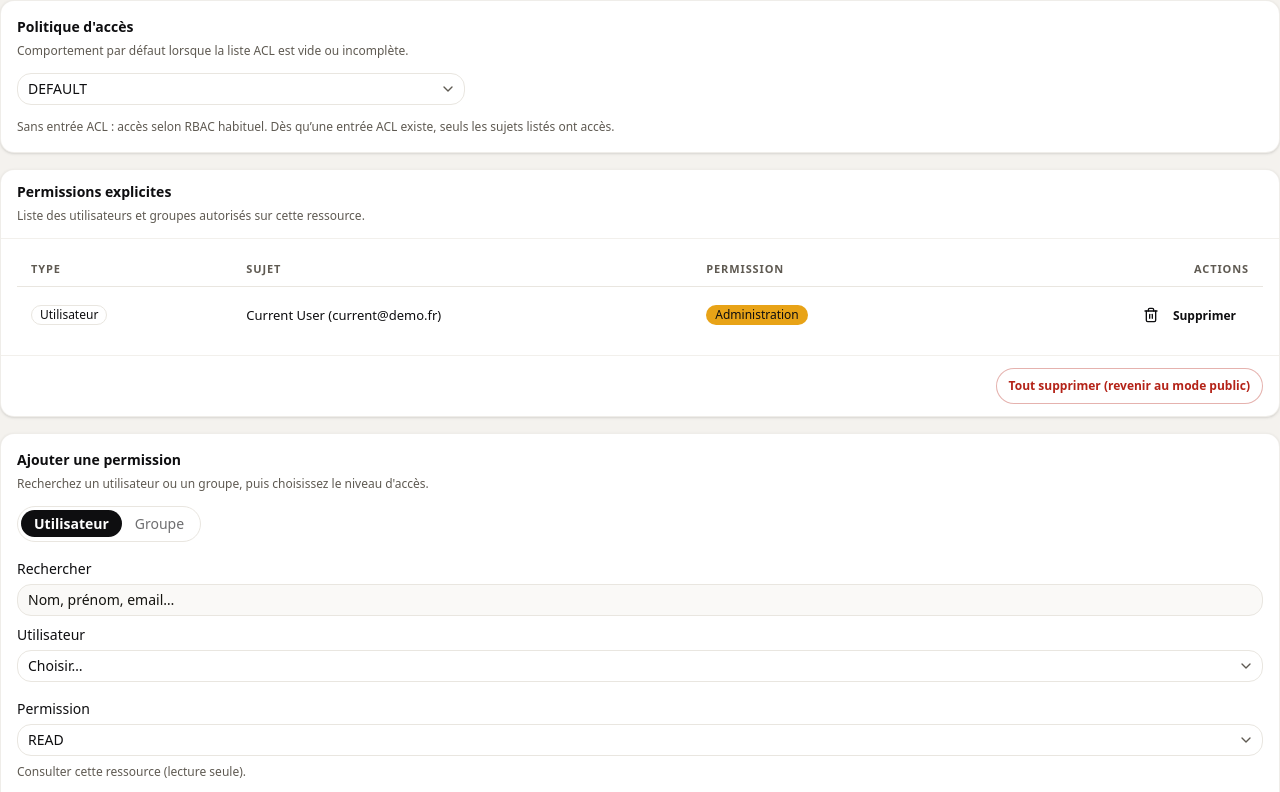
Test: ResourceAclEditor — self-lockout (test imposé n°4) › cas A : USER ADMIN unique → DELETE bloqué sans confirmation forte
Click the button with aria-label "Supprimer Current User (current@demo.fr)": (1189, 315) [1130, 297, 1249, 333]
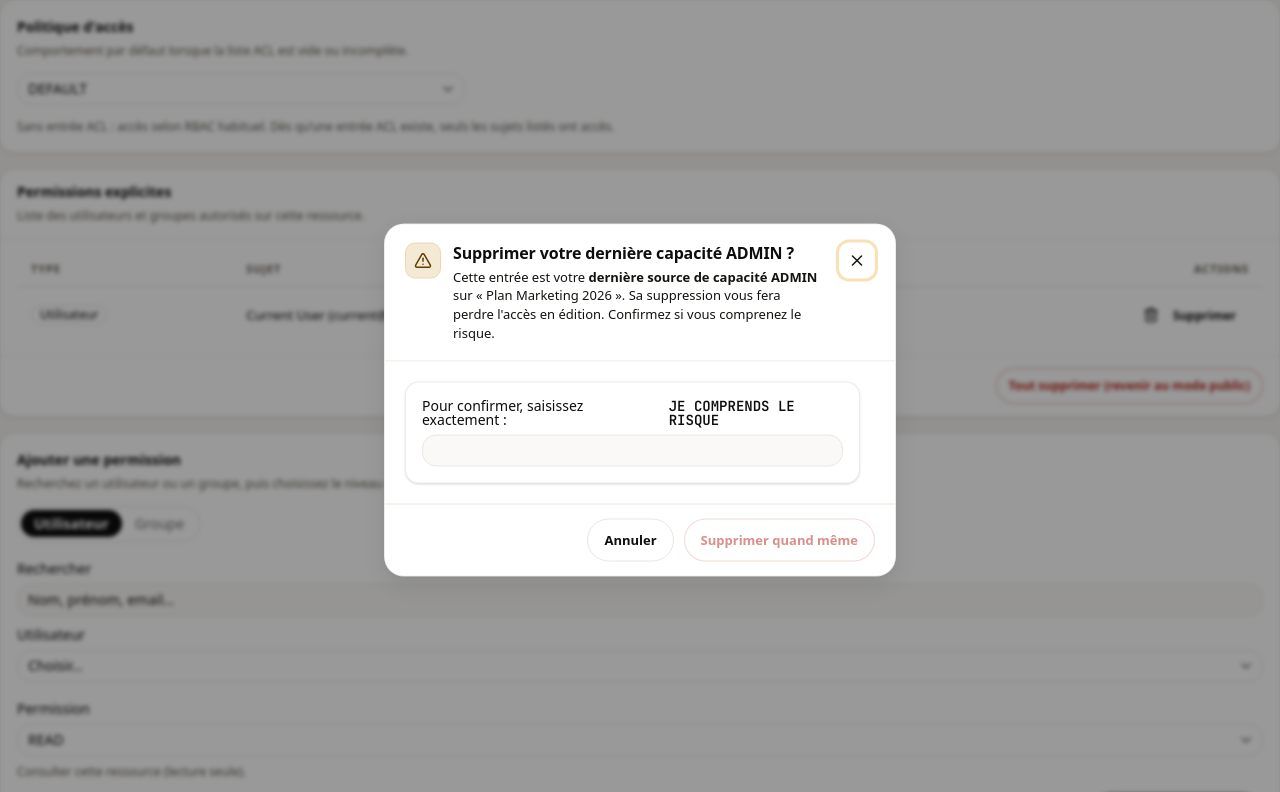
Now the heading "Supprimer votre dernière capacité ADMIN ?" is shown, box [453, 242, 819, 264]
